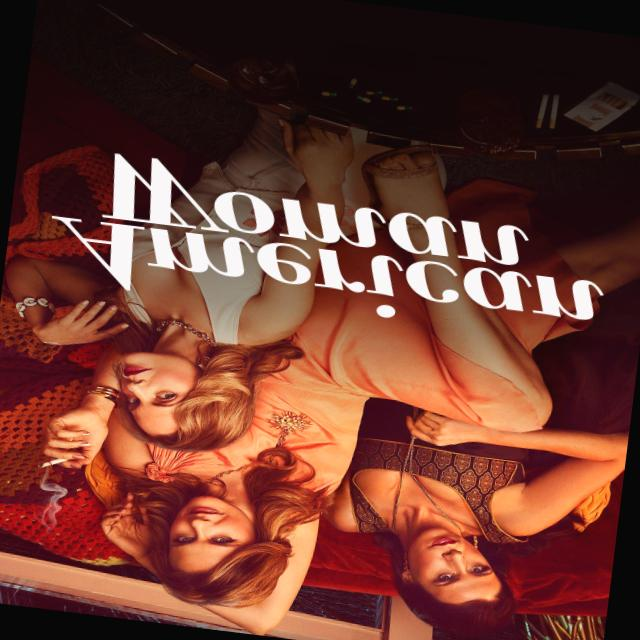cigarette: (25, 435, 88, 488)
